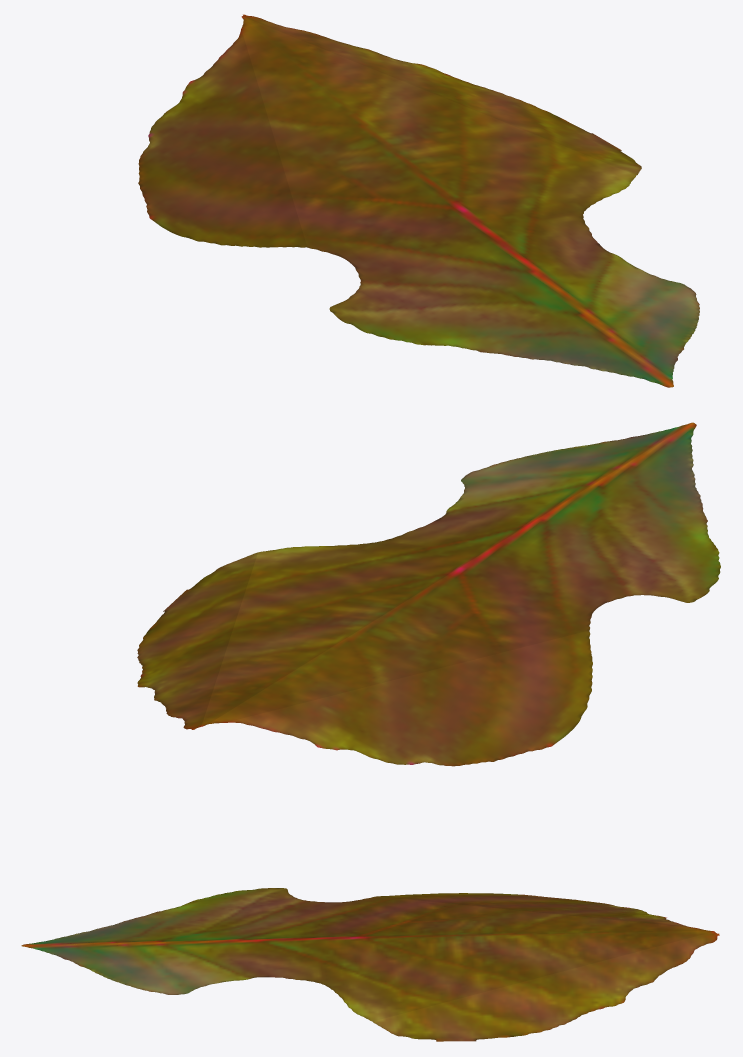
File: Row Root Leaf B.fbx
3 views of the same model, one above another, from view 1: azimuth 30°, elevation 25°; view 2: azimuth 150°, elevation 25°; view 3: azimuth 270°, elevation 25° (orthographic). The views are drawn at different scales.
Parts seen in each view (by area): view 1: Row Root Leaf B; view 2: Row Root Leaf B; view 3: Row Root Leaf B.
Boxes of the visible parts, bbox=[...] form: Row Root Leaf B: bbox=[138, 14, 699, 387]; Row Root Leaf B: bbox=[137, 422, 720, 766]; Row Root Leaf B: bbox=[21, 888, 719, 1041].
Bounding box in the file's own units: 45.5 × 7.19 × 83.88.
